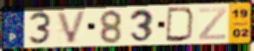3: (129, 7, 158, 44), (28, 10, 53, 46)
8: (98, 8, 124, 45)
D: (164, 7, 197, 43)
V: (56, 9, 90, 45)
Z: (198, 6, 228, 41)
